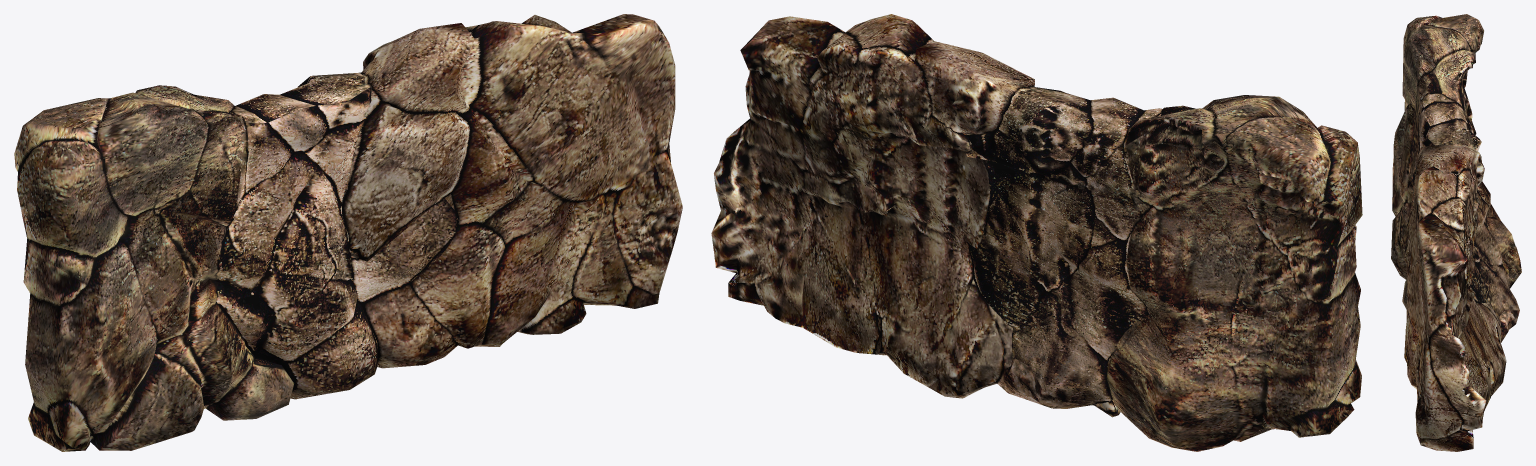
File: Ruine Wall B.FBX
3 views of the same model, side by side, from view 1: azimuth 30°, elevation 25°; view 2: azimuth 150°, elevation 25°; view 3: azimuth 270°, elevation 25° (orthographic). The views are drawn at different scales.
Parts seen in each view (by area): view 1: Wall1 v4 112; view 2: Wall1 v4 112; view 3: Wall1 v4 112.
Part boxes in pixels (x1,y1,x2,y2): Wall1 v4 112: (14, 14, 682, 451); Wall1 v4 112: (711, 14, 1362, 451); Wall1 v4 112: (1391, 14, 1521, 451).
Bounding box in the file's own units: 157 × 37.47 × 80.13.
Materials: 1 (1 with a texture image).
